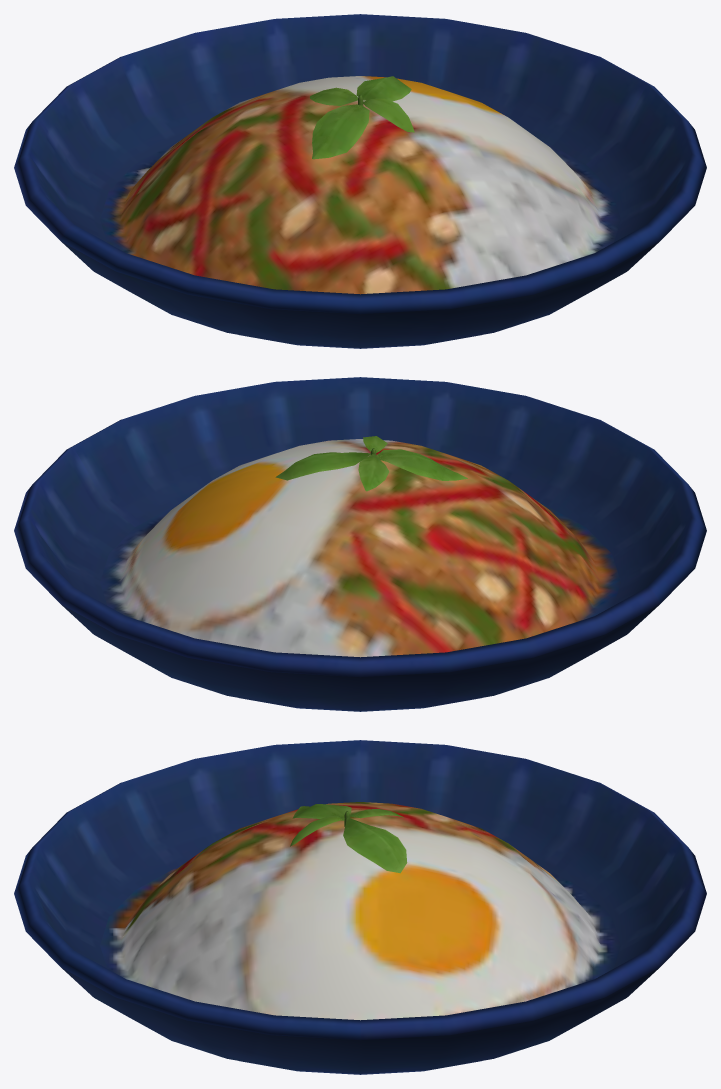
3 renders of one model, top to bottom at view 1: azimuth 30°, elevation 25°; view 2: azimuth 150°, elevation 25°; view 3: azimuth 270°, elevation 25°, orthographic.
Bounding box in the file's own units: 7.11 × 1.78 × 7.11.
1 material, 1 textured.
